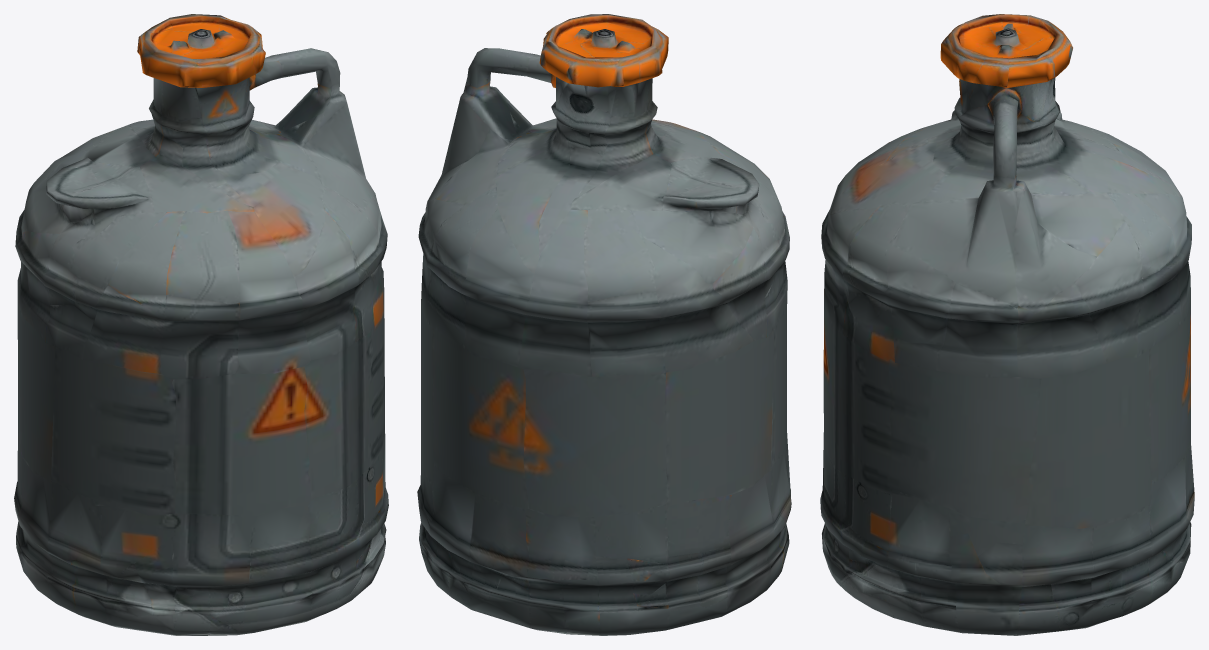
The model's file is barrel.glb.
3 renders of one model, left to right at view 1: azimuth 30°, elevation 25°; view 2: azimuth 150°, elevation 25°; view 3: azimuth 270°, elevation 25°, orthographic.
Bounding box in the file's own units: 1.21 × 1.9 × 1.21.
Materials: 1 (1 with a texture image).
